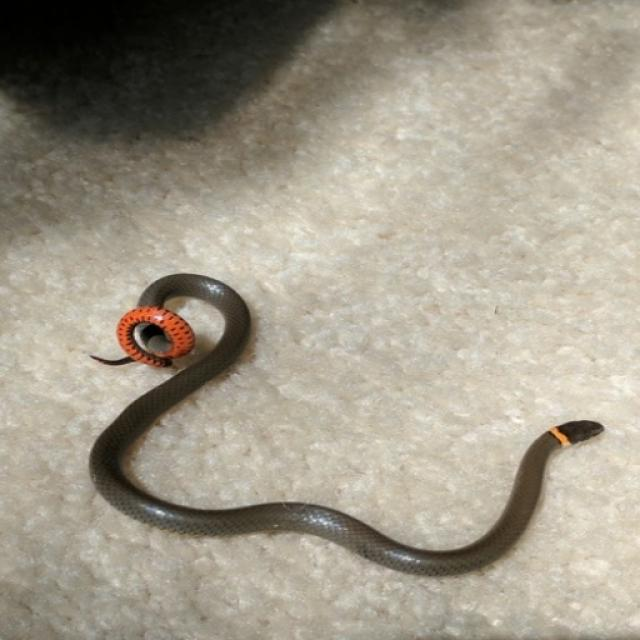snake: (77, 269, 612, 582)
